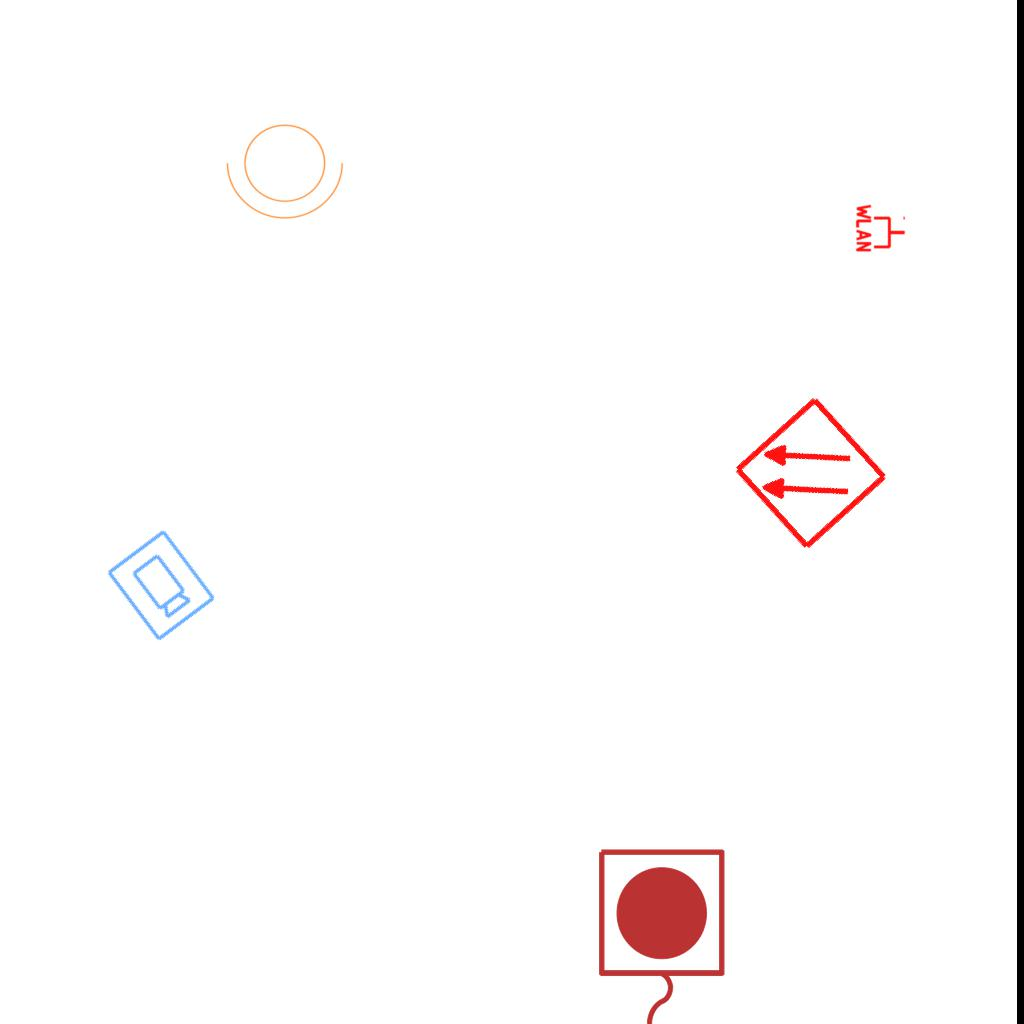KFO_Kamera_mit_Festobjektiv: (102, 525, 219, 646)
RMO_Rauchmelder_optischer: (730, 393, 891, 554)
Scheinwerfer_fuer_Alarmbeleuchtung: (222, 112, 354, 224)
WLAN: (855, 202, 907, 254)
Zugtaster: (588, 841, 732, 1024)
